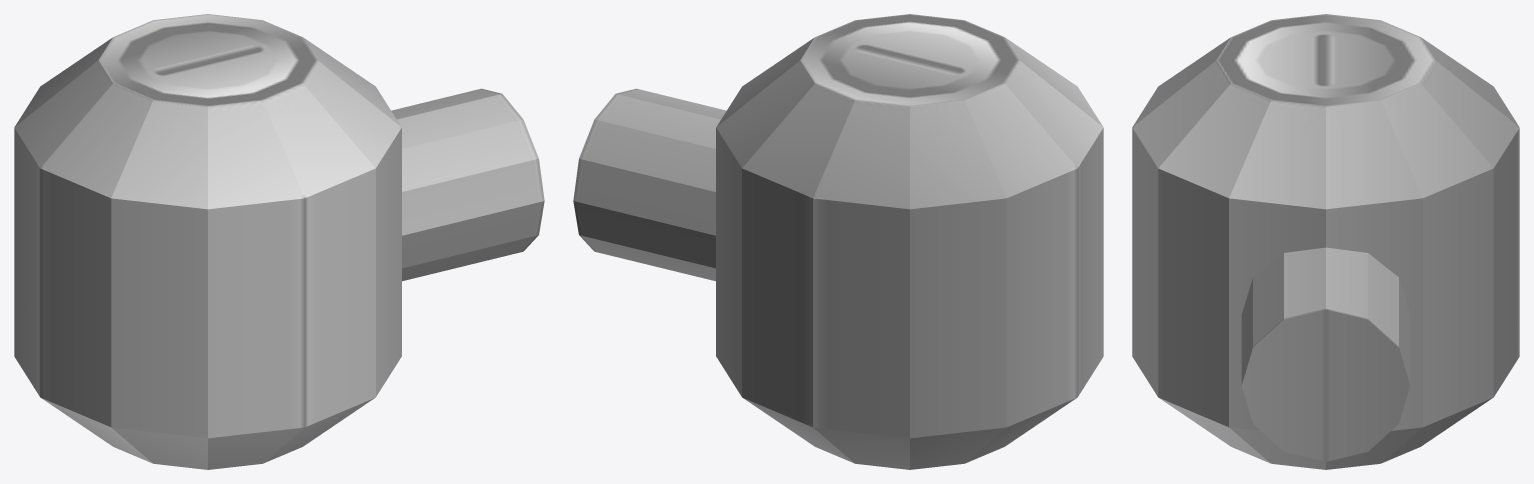
The model's file is R_SHOULDER_P_S.dae.
3 views of the same model, side by side, from view 1: azimuth 30°, elevation 25°; view 2: azimuth 150°, elevation 25°; view 3: azimuth 270°, elevation 25° (orthographic).
Visible parts, largest first — view 1: root; view 2: root; view 3: root.
Boxes of the visible parts, <box> form: root: <box>14,14,544,469</box>; root: <box>573,14,1103,469</box>; root: <box>1132,14,1519,469</box>.
Size of the model in its own units: 0.1584 by 0.119 by 0.115.
Materials: 1 (1 with a texture image).
